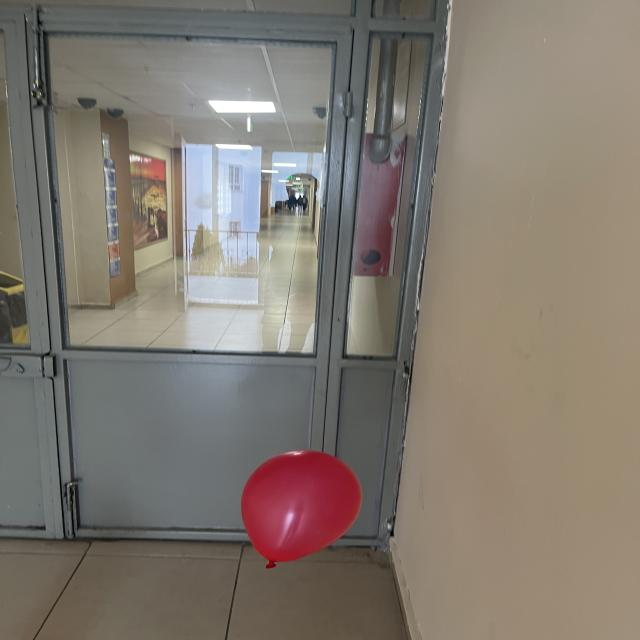balloon: (241, 450, 362, 569)
